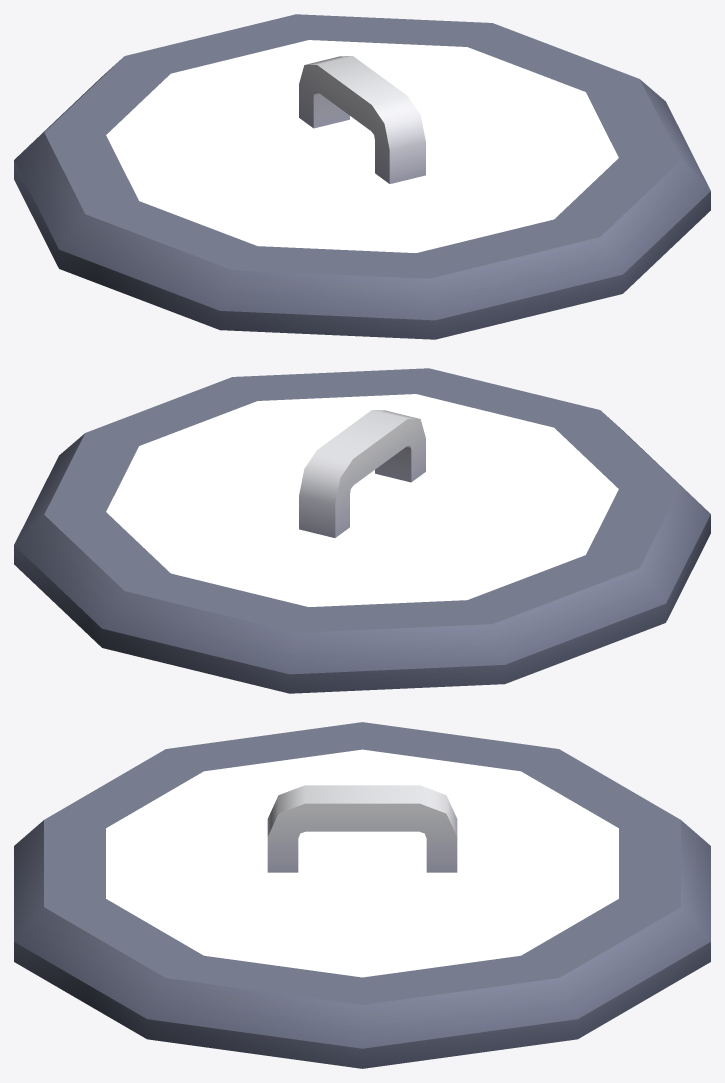
File: kenney-food-pot-stew-lid.glb
3 views of the same model, one above another, from view 1: azimuth 30°, elevation 25°; view 2: azimuth 150°, elevation 25°; view 3: azimuth 270°, elevation 25° (orthographic). The views are drawn at different scales.
Parts seen in each view (by area): view 1: pot-stew-lid, (%ignore); view 2: pot-stew-lid, (%ignore); view 3: pot-stew-lid, (%ignore).
Part boxes in pixels (<box>): pot-stew-lid: <box>14,14,710,339</box>; (%ignore): <box>106,40,618,252</box>; pot-stew-lid: <box>14,368,710,693</box>; (%ignore): <box>106,394,618,606</box>; pot-stew-lid: <box>14,722,710,1068</box>; (%ignore): <box>106,749,618,977</box>.
Bounding box in the file's own units: 0.6574 × 0.1184 × 0.6253.
Materials: 2 (1 with a texture image).
